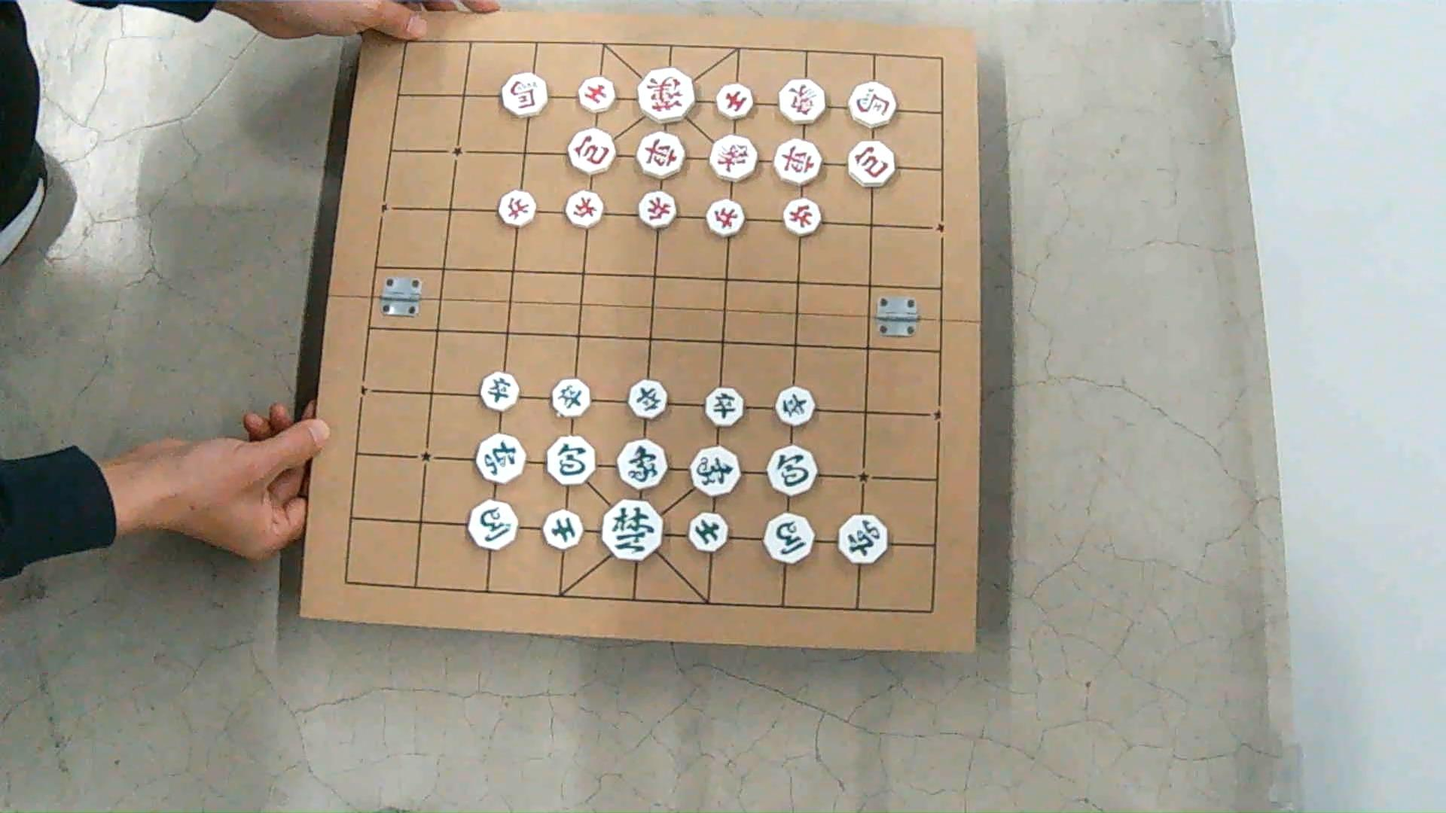cha_green: (838, 515, 888, 564), (476, 434, 524, 483)
cha_red: (636, 132, 683, 178), (774, 139, 820, 185)
jol_green: (628, 380, 667, 419), (704, 388, 743, 426), (551, 379, 589, 418), (480, 372, 518, 411), (776, 386, 813, 426)
jol_red: (783, 198, 821, 236), (498, 190, 535, 227), (639, 191, 676, 228), (706, 200, 743, 236), (566, 190, 602, 227)
ma_green: (764, 513, 813, 563), (468, 500, 516, 550)
ma_red: (848, 82, 895, 127), (501, 73, 548, 117)
po_green: (768, 446, 817, 495), (546, 437, 594, 485)
po_red: (847, 142, 895, 187), (569, 129, 614, 175)
sa_green: (543, 510, 582, 550), (688, 513, 728, 552)
sa_red: (716, 84, 753, 120), (578, 77, 615, 113)
sang_green: (617, 440, 666, 489), (691, 446, 739, 496)
sang_red: (709, 135, 755, 181), (778, 80, 825, 124)
wang_green: (602, 498, 663, 561)
wang_red: (638, 68, 694, 122)
